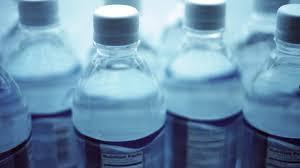Plastic bottle: (71, 4, 161, 160), (166, 3, 239, 168), (8, 3, 67, 162), (246, 15, 300, 168)
